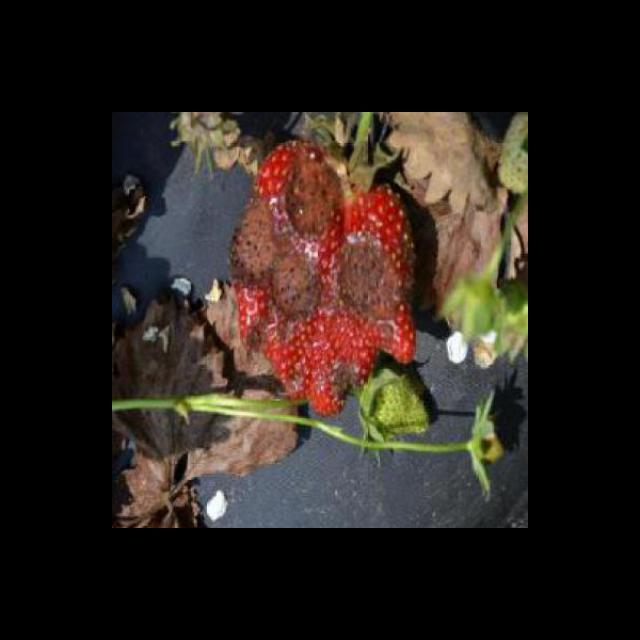Anthracnose Fruit Rot: (224, 140, 416, 418)
